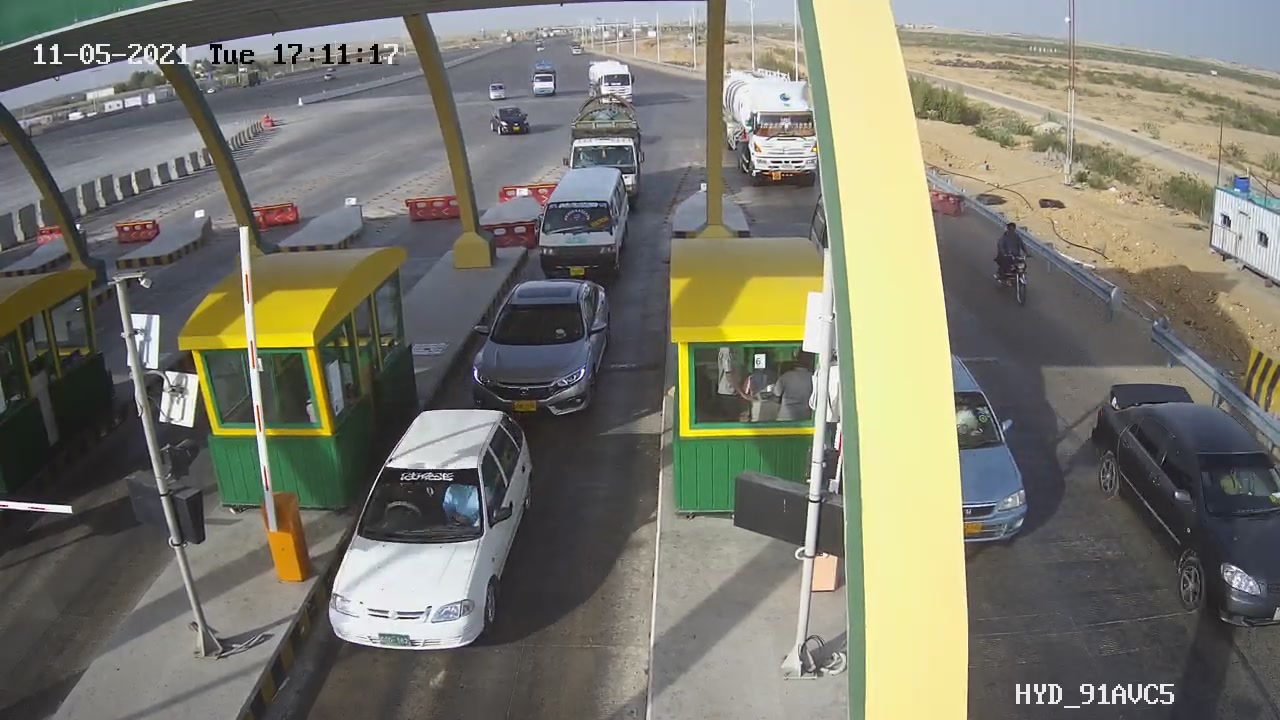F1: (452, 264, 633, 442)
